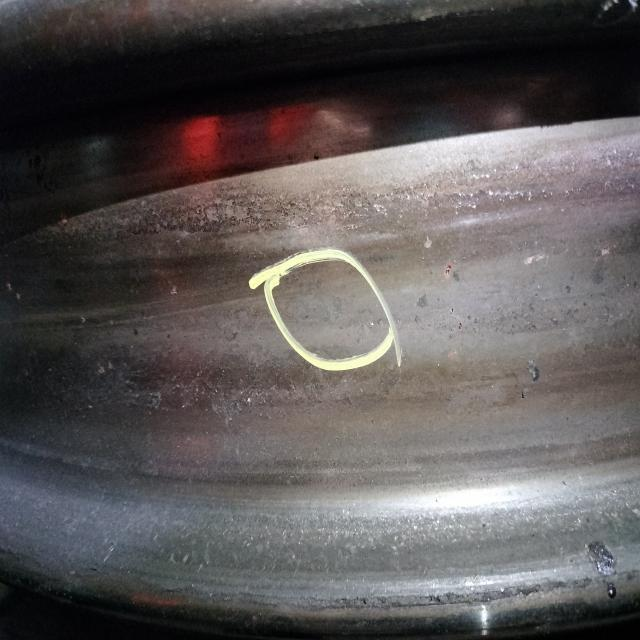Contact_Fatigue_Cracks: (383, 184, 598, 210)
flat: (285, 277, 384, 341)
